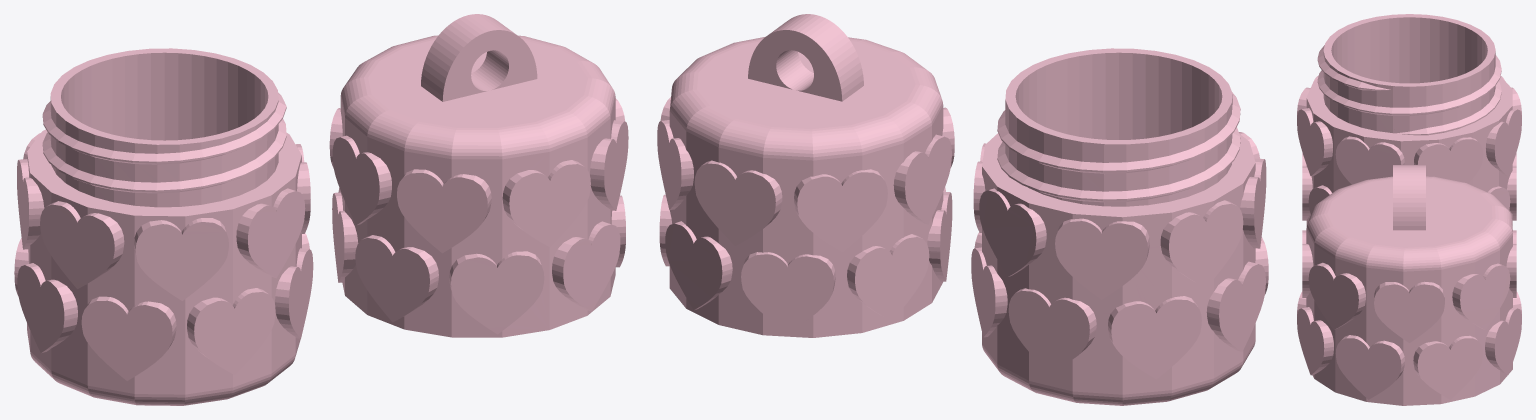
The model's file is pastillero-corazon.glb.
3 renders of one model, left to right at view 1: azimuth 30°, elevation 25°; view 2: azimuth 150°, elevation 25°; view 3: azimuth 270°, elevation 25°, orthographic. The views are drawn at different scales.
Visible parts, largest first — view 1: pieza; view 2: pieza; view 3: pieza.
Part boxes in pixels (x1=…): pieza: x1=14, y1=14, x2=628, y2=405; pieza: x1=657, y1=14, x2=1268, y2=405; pieza: x1=1297, y1=14, x2=1521, y2=405.
Size of the model in its own units: 0.0606 by 0.0263 by 0.0273.
